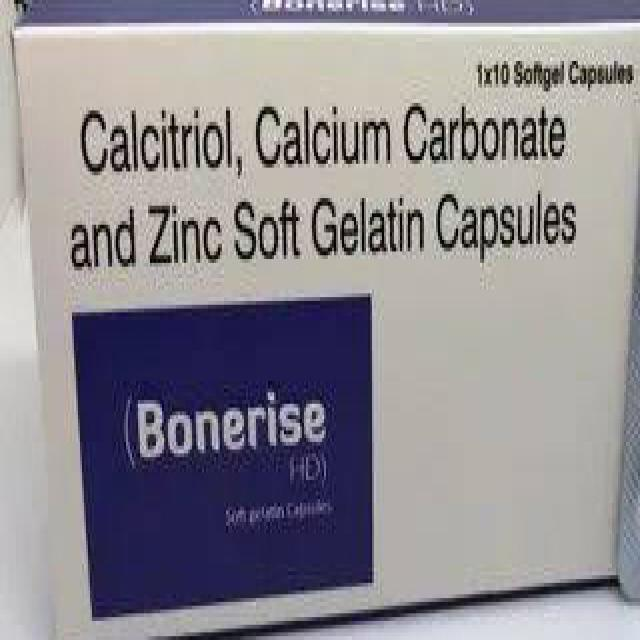drug-name: (133, 392, 334, 471)
